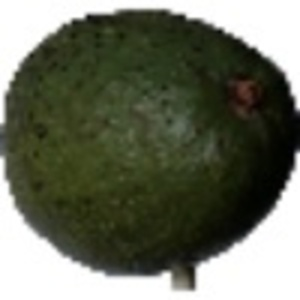abacate: (2, 3, 296, 275)
